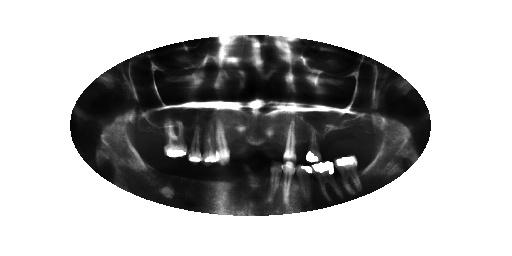Fillings: (336, 154, 369, 197), (313, 161, 345, 205), (296, 163, 321, 205), (163, 121, 187, 159), (202, 124, 222, 168), (187, 126, 204, 165), (305, 127, 323, 163)
